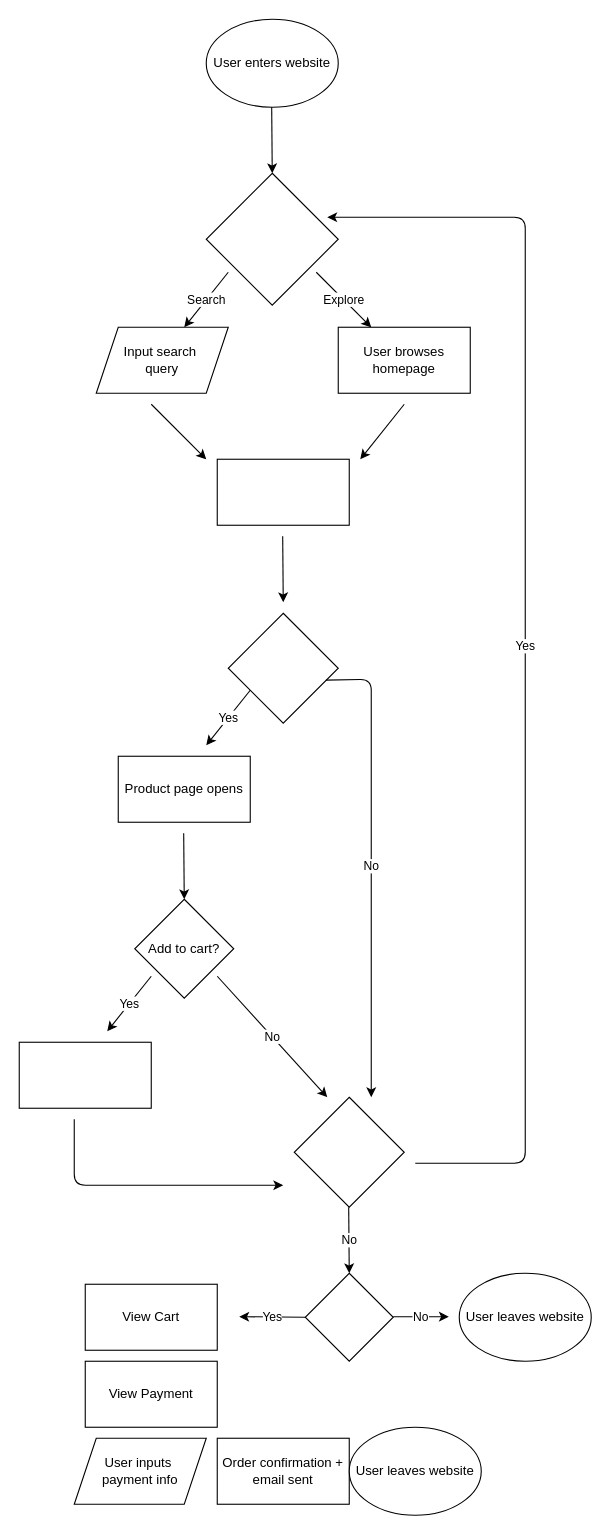
Some shapes in this 611 by 1535 pixel diagram are drawn without their labels. The shapes that lost their labels are listed below. From the top down, each one's centre as x and y in pixels, then its label:
point (271, 238): Search or Explore Homepage?
point (282, 491): User views product listing
point (282, 667): View a specific product?
point (84, 1074): Added to cart confirmation
point (348, 1151): Continue shopping?
point (348, 1316): Checkout?
